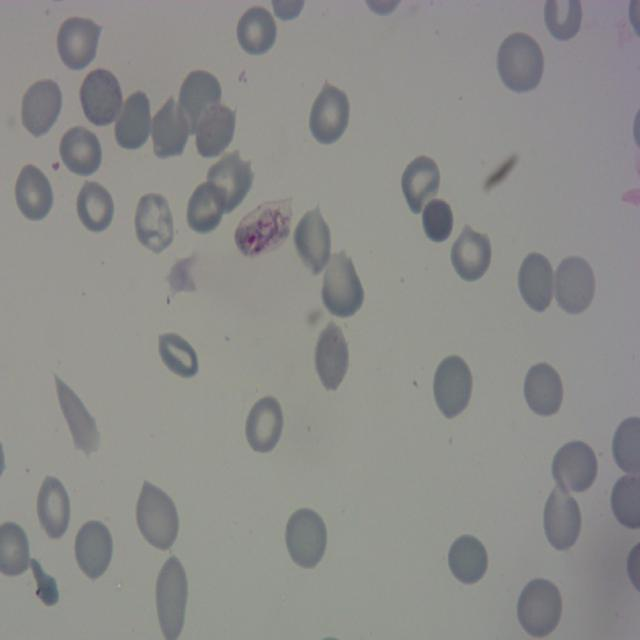leukocyte: (133, 481, 181, 553), (494, 30, 546, 96), (56, 379, 97, 460), (319, 249, 365, 320), (155, 554, 193, 638), (205, 150, 253, 215), (541, 481, 584, 553), (516, 574, 564, 638), (306, 82, 352, 147), (552, 253, 598, 318), (77, 65, 124, 128), (292, 206, 334, 276), (54, 13, 102, 74), (18, 76, 64, 139), (432, 351, 475, 418), (33, 472, 74, 542), (286, 502, 328, 570), (242, 393, 286, 457), (448, 222, 494, 283), (133, 191, 177, 254), (313, 322, 352, 392), (400, 152, 443, 215), (72, 517, 114, 581), (551, 437, 598, 494), (12, 162, 55, 224), (516, 250, 557, 314), (57, 123, 103, 179), (150, 96, 190, 160), (194, 101, 238, 159), (113, 90, 153, 152), (74, 177, 116, 236), (178, 70, 222, 126), (184, 180, 227, 237), (446, 532, 490, 586), (523, 361, 564, 418), (157, 327, 201, 380), (236, 3, 274, 55), (418, 194, 456, 246)
schizont: (236, 195, 294, 256)
